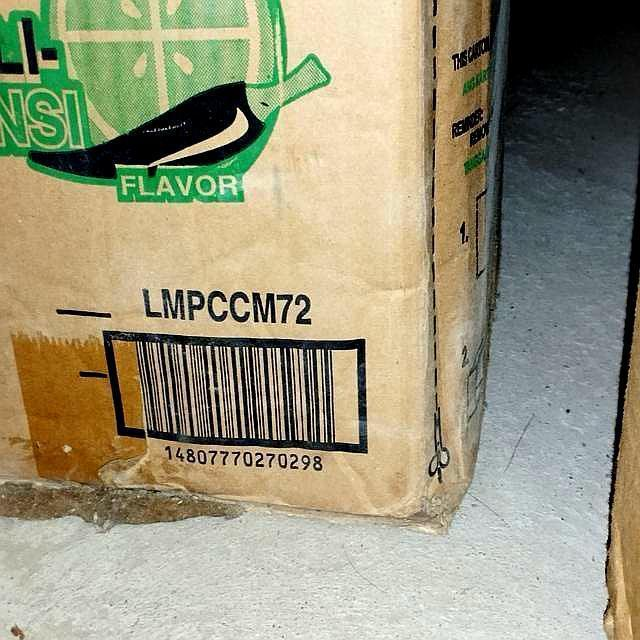Biodegradable: (1, 1, 497, 525)
